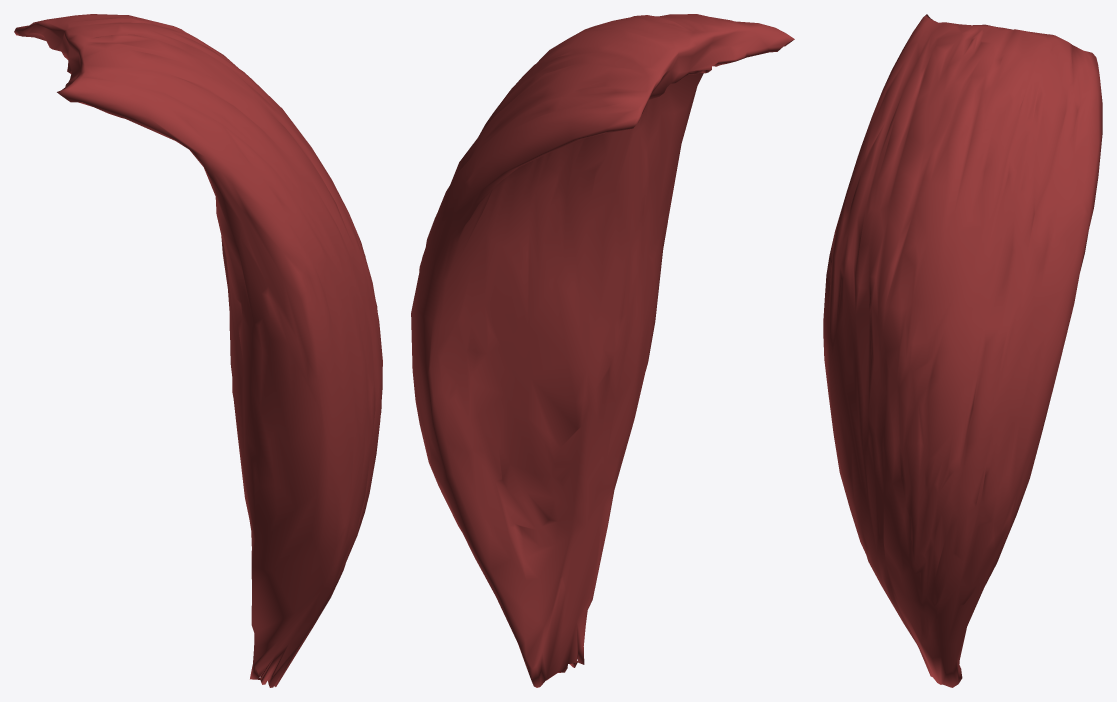
File: acromial-part-of-deltoid-muscle-l.glb
The picture shows the model from 3 angles, left to right: view 1: azimuth 30°, elevation 25°; view 2: azimuth 150°, elevation 25°; view 3: azimuth 270°, elevation 25°; orthographic projection. The views are drawn at different scales.
Visible parts, largest first — view 1: Acromial part of deltoid muscle.l; view 2: Acromial part of deltoid muscle.l; view 3: Acromial part of deltoid muscle.l.
Part boxes in pixels (left/top/right/bottom): Acromial part of deltoid muscle.l: left=14, top=14, right=382, bottom=687; Acromial part of deltoid muscle.l: left=411, top=14, right=794, bottom=687; Acromial part of deltoid muscle.l: left=823, top=14, right=1102, bottom=687.
Size of the model in its own units: 0.0755 by 0.1476 by 0.0634.
